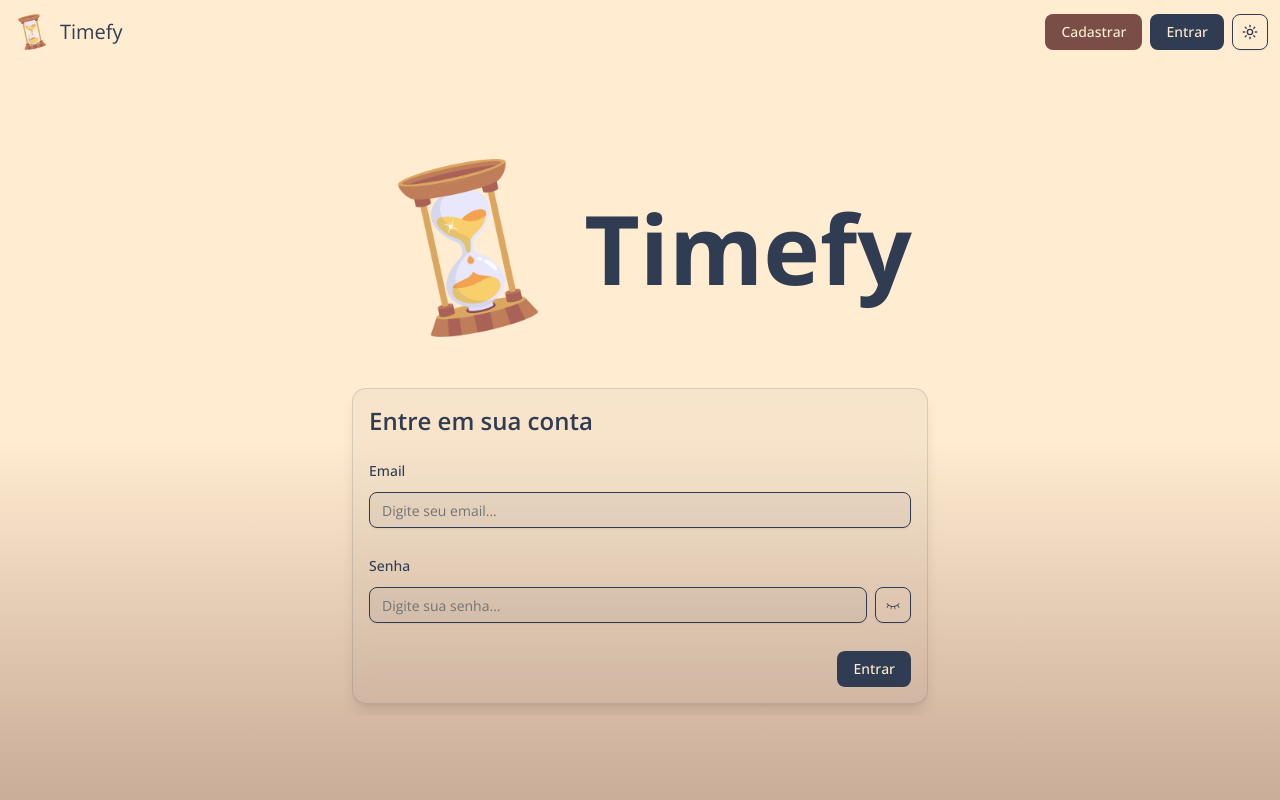
Test: LogInPage › Form Validation › should show error when password is empty
Type "killua.zoldyck@example.com" into the field labelled "Email" at [640, 510], box [369, 492, 911, 528]
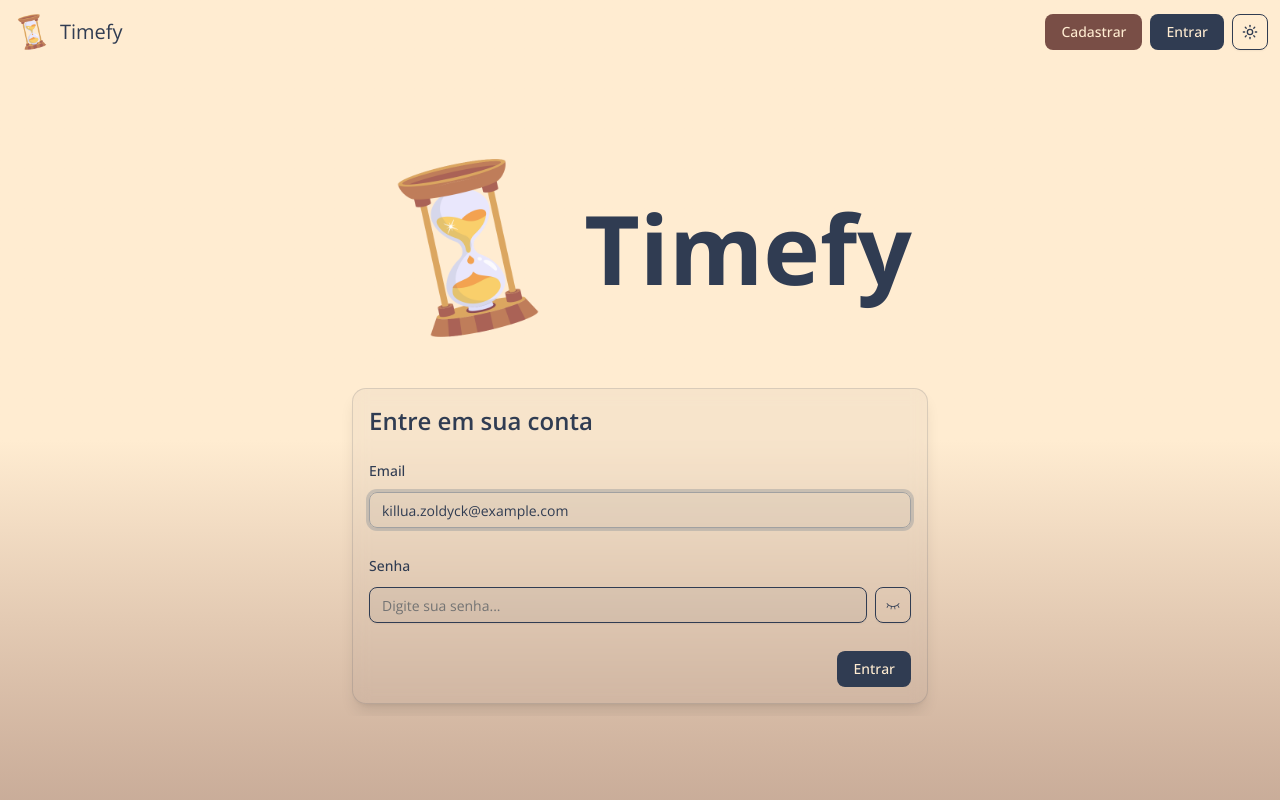
Click the button "Entrar" below "Entre em sua conta" at [874, 669], box [838, 651, 911, 687]
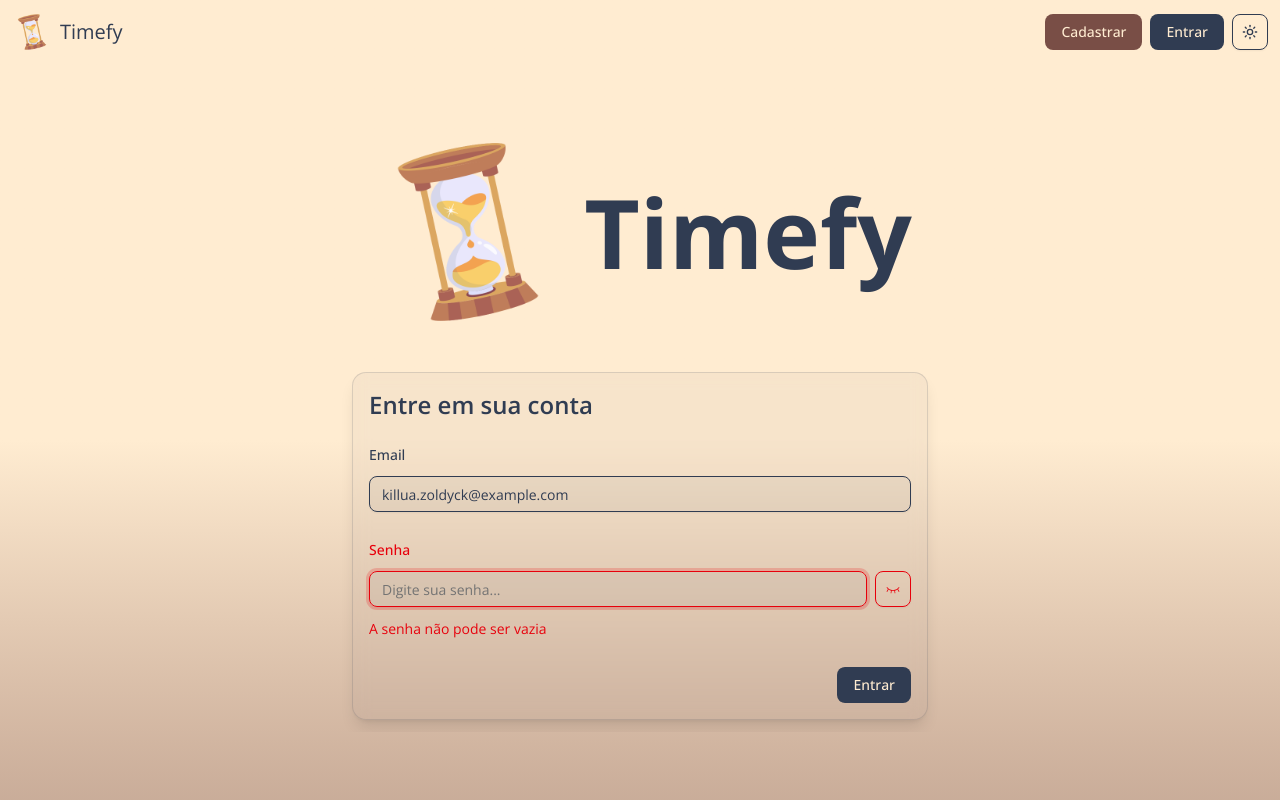
Expected: the text "A senha não pode ser vazia" is shown, [369, 619, 547, 638]
